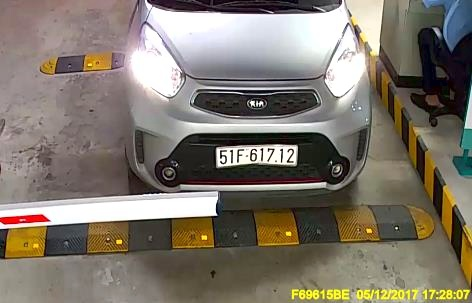plate: (215, 140, 299, 173)
